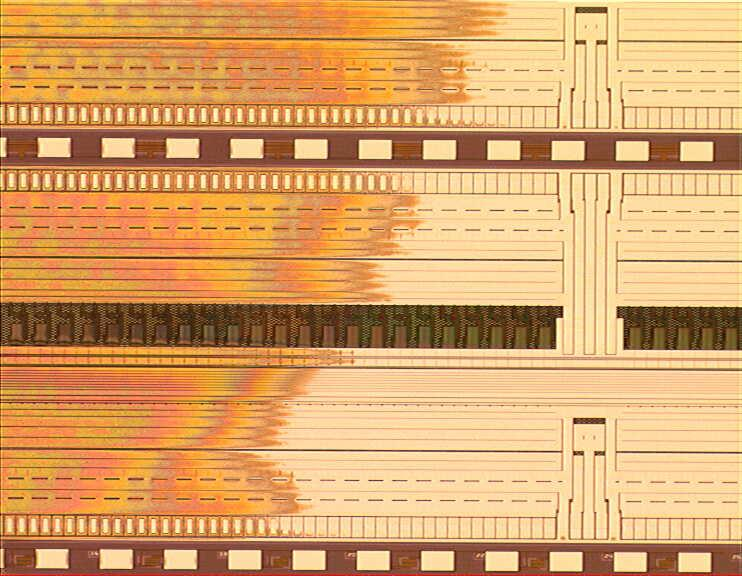COATING BAD: (1, 1, 514, 576)
